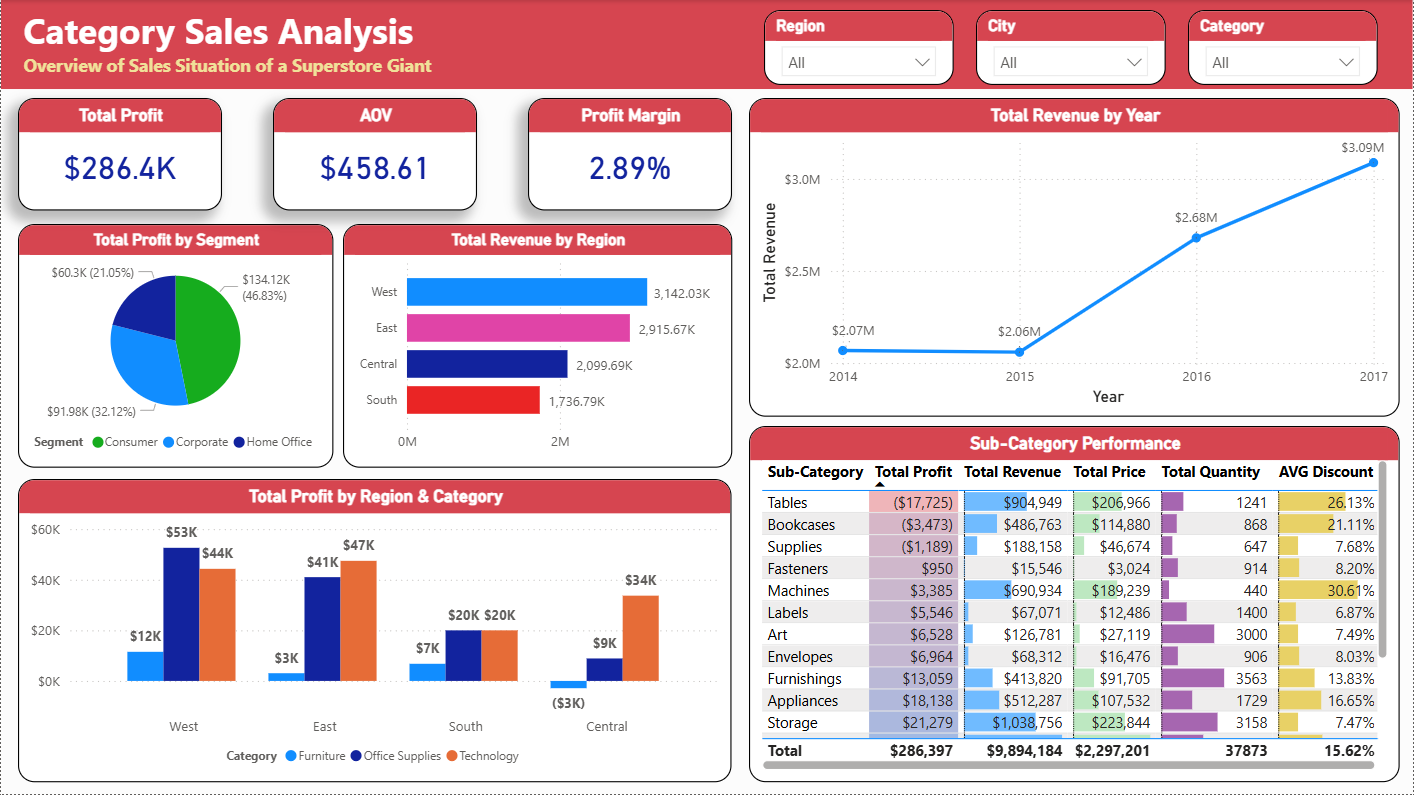

What the dashboard file says about the page in this screenshot:
{"tool":"powerbi","page":{"name":"Page 1","canvas":[1280,720],"ordinal":0},"visuals":[{"type":"shape","box":[0,0,1280,80.7],"z":0},{"type":"card","title":"Total Profit","fields":{"Values":["Sum(Superstore-Dataset.Profit)"]},"box":[15.4,88.9,185,102.5],"z":1000},{"type":"lineChart","fields":{"Category":["Superstore-Dataset.Order Date.Variation.Date Hierarchy.Year","Superstore-Dataset.Order Date.Variation.Date Hierarchy.Quarter","Superstore-Dataset.Order Date.Variation.Date Hierarchy.Month","Superstore-Dataset.Order Date.Variation.Date Hierarchy.Day"],"Y":["Sum(Superstore-Dataset.Revenue)"]},"box":[678.3,88.9,590.3,289.3],"z":2000},{"type":"pieChart","title":"Total Profit by Segment","fields":{"Category":["Superstore-Dataset.Segment"],"Y":["Sum(Superstore-Dataset.Profit)"]},"box":[15.4,203.1,285.6,221.3],"z":3000},{"type":"clusteredColumnChart","title":"Total Profit by Region & Category","fields":{"Category":["Superstore-Dataset.Region"],"Y":["Sum(Superstore-Dataset.Profit)"],"Series":["Superstore-Dataset.Category"]},"box":[15.4,434.4,647.5,274.8],"z":4000},{"type":"tableEx","title":"Sub-Category Performance","fields":{"Values":["Superstore-Dataset.Sub-Category","Sum(Superstore-Dataset.Profit)","Sum(Superstore-Dataset.Revenue)","Sum(Superstore-Dataset.Price)","Sum(Superstore-Dataset.Quantity)","Sales Metrics (2).Avg Discount"]},"box":[678.3,386.3,590.3,322.8],"z":5000},{"type":"card","title":"Profit Margin","fields":{"Values":["Sales Metrics (2).Profit Margin"]},"box":[477.9,88.9,185,102.5],"z":6000},{"type":"card","title":"AOV","fields":{"Values":["Sales Metrics (2).AOV"]},"box":[246.6,88.9,185,102.5],"z":7000},{"type":"slicer","title":"City","fields":{"Values":["Superstore-Dataset.City"]},"box":[884.1,9.1,172.3,68],"z":8000},{"type":"slicer","title":"Category","fields":{"Values":["Superstore-Dataset.Category"]},"box":[1076.4,9.1,172.3,68],"z":9000},{"type":"slicer","title":"Region","fields":{"Values":["Superstore-Dataset.Region"]},"box":[691.9,9.1,172.3,68],"z":10000},{"type":"textbox","box":[15.6,0,433.8,86.6],"z":11000},{"type":"barChart","title":"Total Revenue by Region","fields":{"Y":["Sales Metrics (2).Revenue"],"Category":["Superstore-Dataset.Region"],"Series":["Superstore-Dataset.Region"]},"box":[310.1,203.1,352.7,221.3],"z":12000}]}

Visuals, with their boxes in screenshot pixels (x1, y1, x2, y2), scaled from the page's 1280x720 canvas onto the 1414x795 screenshot:
shape: [0, 0, 1413, 89]
"Total Profit" card: [17, 98, 221, 211]
lineChart - Superstore-Dataset.Order Date.Variation.Date Hierarchy.Year x Superstore-Dataset.Order Date.Variation.Date Hierarchy.Quarter: [749, 98, 1401, 418]
"Total Profit by Segment" pieChart: [17, 224, 333, 469]
"Total Profit by Region & Category" clusteredColumnChart: [17, 480, 732, 783]
"Sub-Category Performance" tableEx: [749, 427, 1401, 783]
"Profit Margin" card: [528, 98, 732, 211]
"AOV" card: [272, 98, 477, 211]
"City" slicer: [977, 10, 1167, 85]
"Category" slicer: [1189, 10, 1379, 85]
"Region" slicer: [764, 10, 955, 85]
textbox: [17, 0, 496, 96]
"Total Revenue by Region" barChart: [343, 224, 732, 469]
